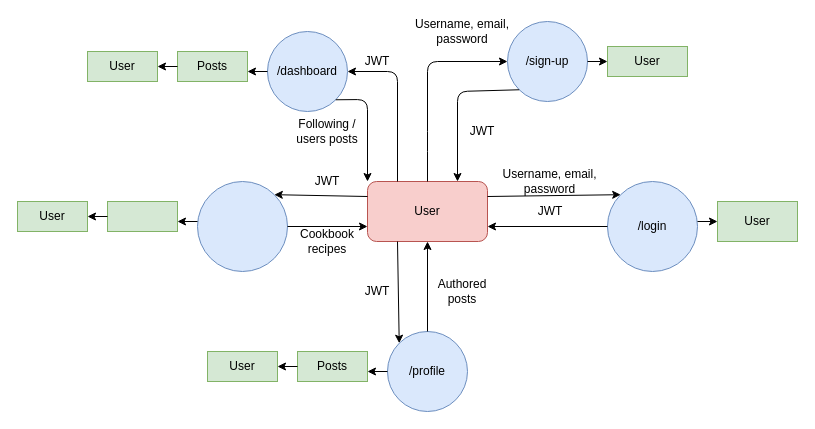
Image size: 815x429. Some labels were removed from this diagram. The box of each missing label's shape, as (x1, y1, x2, y2) in pixels:
/cookbook: (196, 180, 288, 272)
Cookbook: (106, 200, 178, 232)
